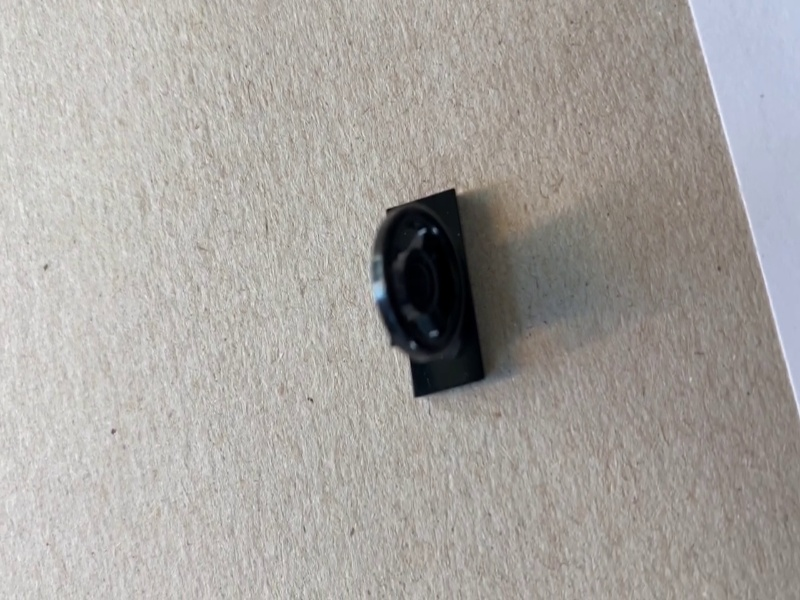steering wheel: (367, 187, 487, 398)
